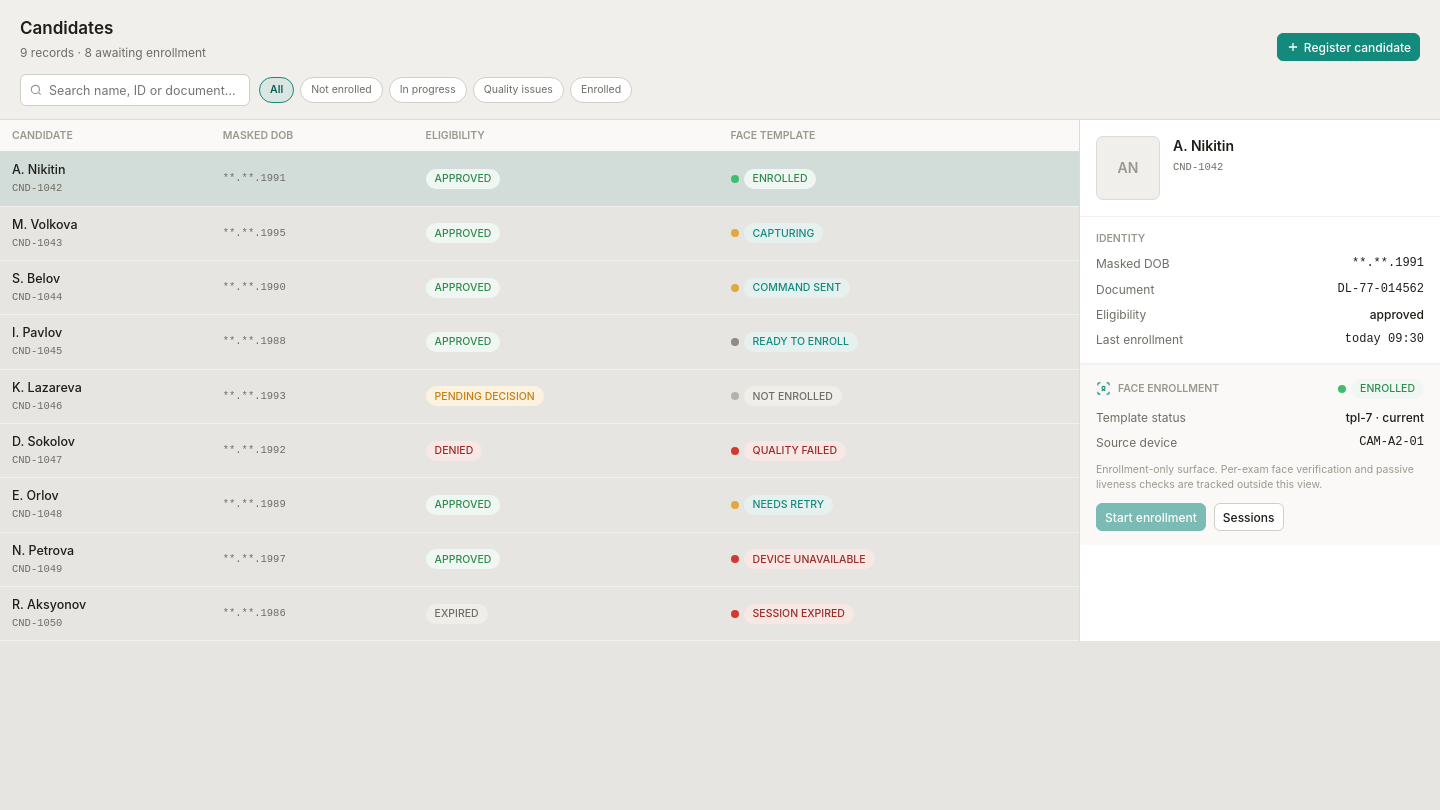
Test case: CandidatesScreen › filters via enrollment chips (In progress narrows to capturing/command-sent/ready-to-enroll/needs-retry)
Step 1. Click the tab "In progress" → (428,90), box [389,77,467,103]
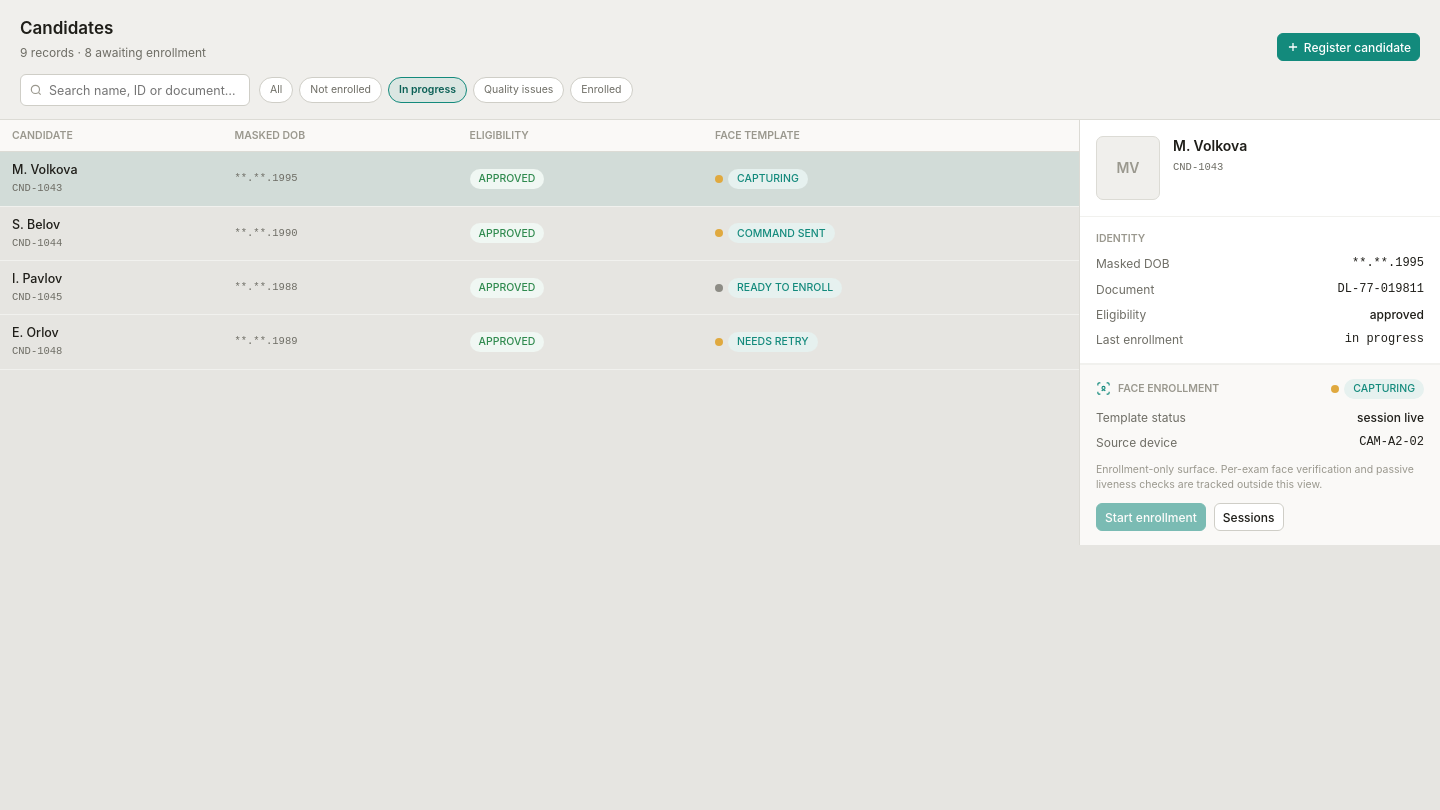
Expected: the 2nd text "CND-1043" is shown, [12,181,62,197]
Expected: the button "CND-1042" is gone
Expected: the button "CND-1047" is gone
